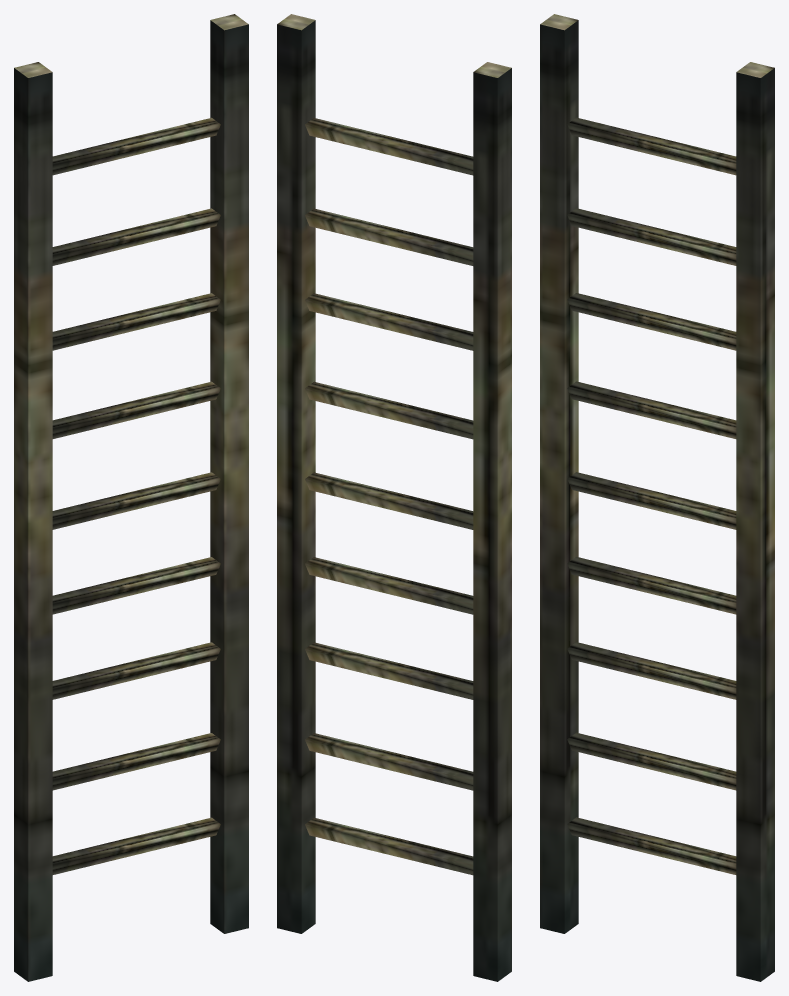
The picture shows the model from 3 angles, left to right: view 1: azimuth 30°, elevation 25°; view 2: azimuth 150°, elevation 25°; view 3: azimuth 330°, elevation 25°; orthographic projection.
Visible parts, largest first — view 1: a120; view 2: a120; view 3: a120.
Boxes of the visible parts, bbox=[...] form: a120: bbox=[14, 14, 248, 981]; a120: bbox=[277, 14, 511, 981]; a120: bbox=[540, 14, 774, 981].
Bounding box in the file's own units: 214 × 838 × 23.81.
